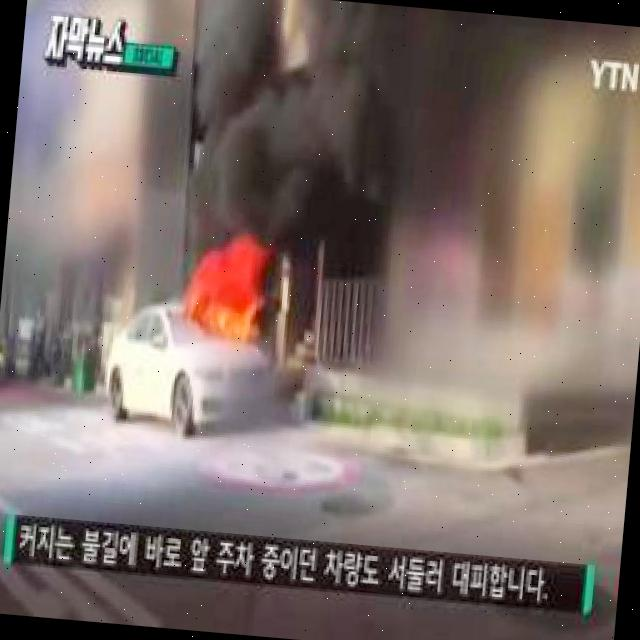fire: (192, 240, 264, 338)
